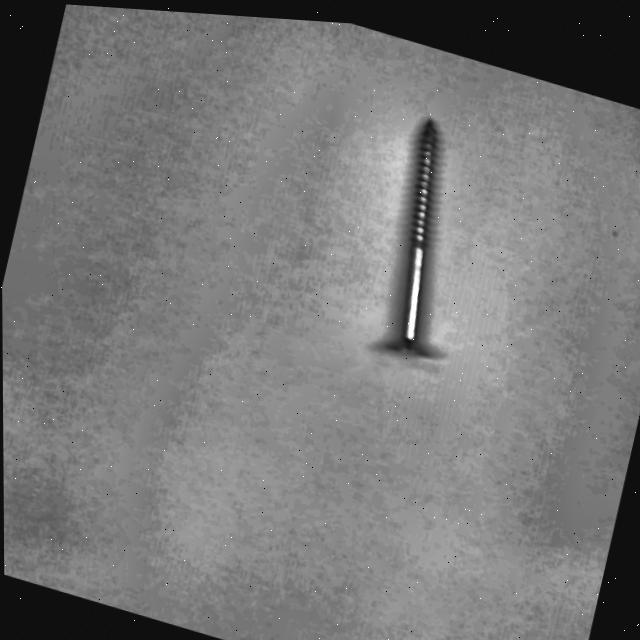Wood screw: (367, 106, 488, 362)
